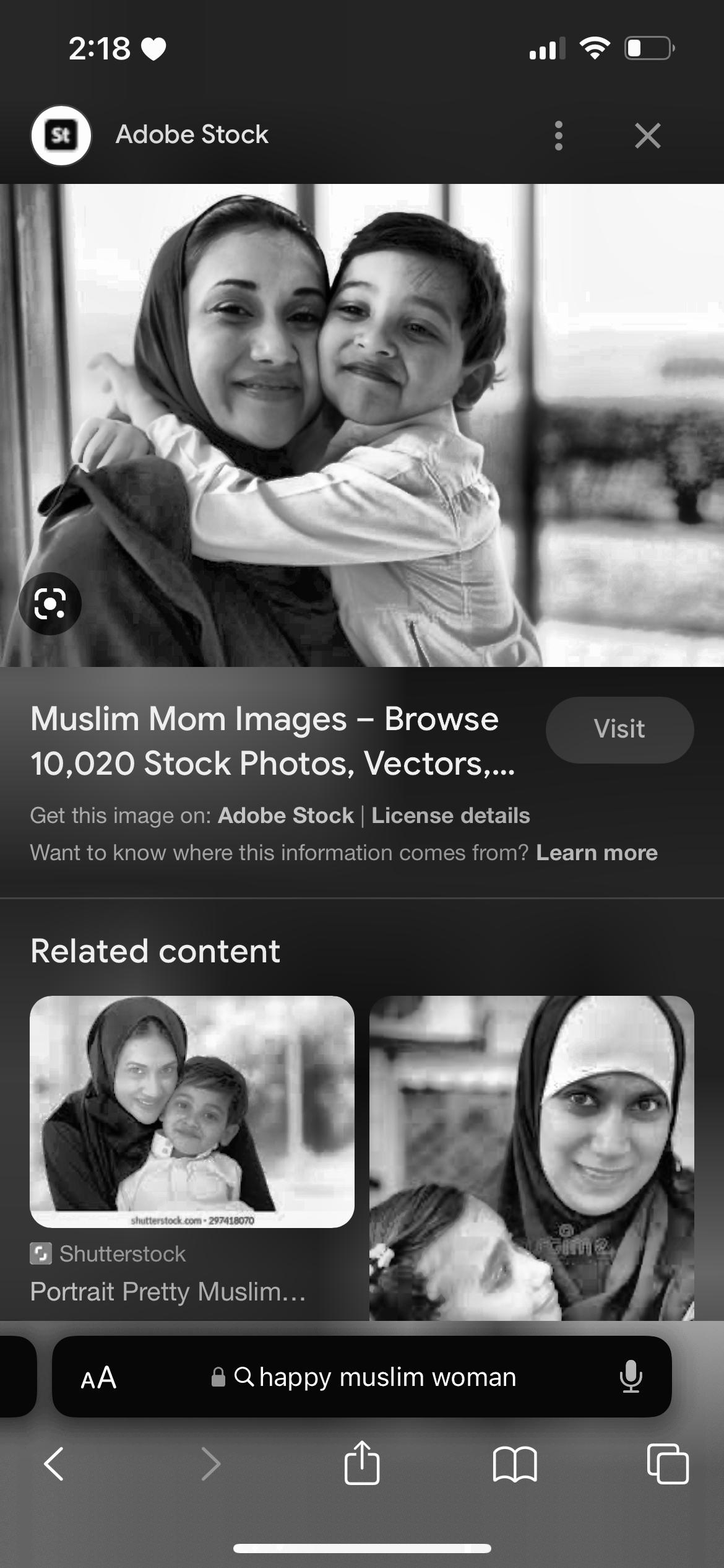Happy: (189, 236, 318, 450)
